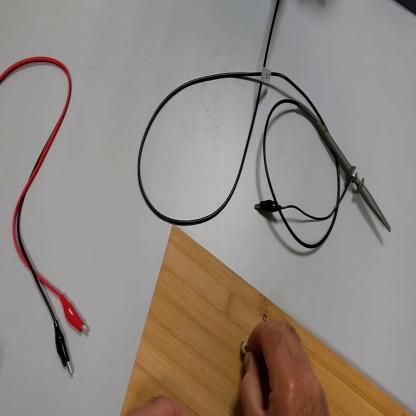hand: (241, 321, 329, 415), (123, 391, 189, 413)
oscilloscope probe tip: (299, 97, 393, 230)
working area: (120, 227, 416, 416)
